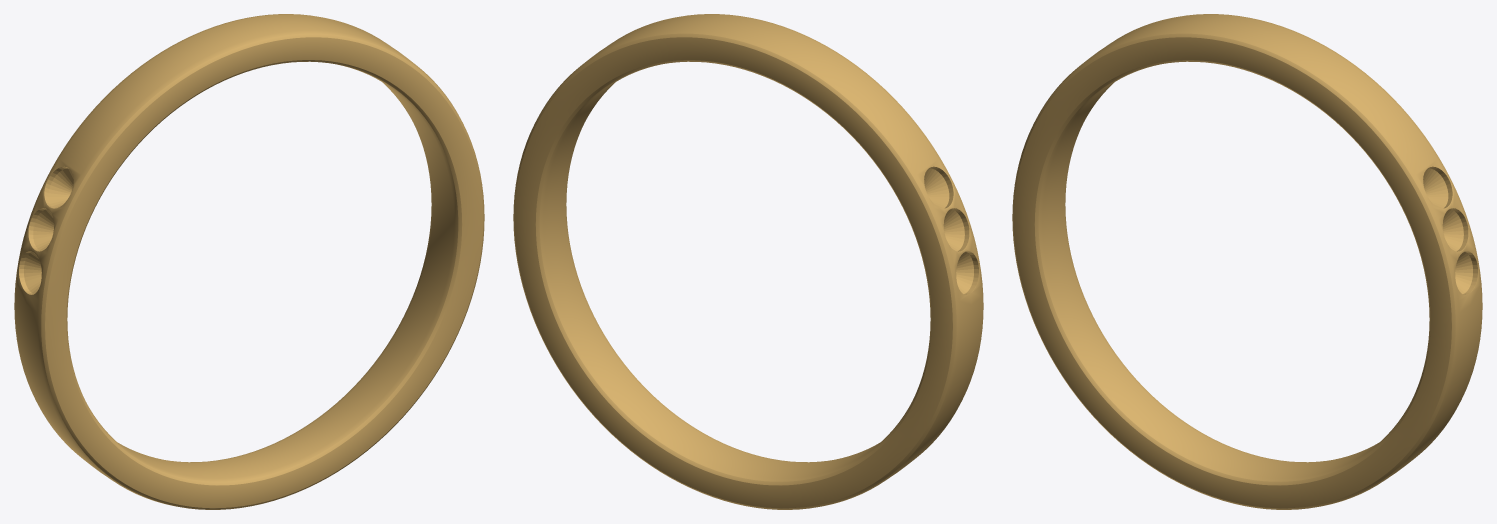
The model's file is flat-flush-accents-wide.glb.
3 renders of one model, left to right at view 1: azimuth 30°, elevation 25°; view 2: azimuth 150°, elevation 25°; view 3: azimuth 330°, elevation 25°, orthographic.
Parts seen in each view (by area): view 1: Band; view 2: Band; view 3: Band.
Part boxes in pixels (bbox=[...]): Band: bbox=[14, 14, 484, 509]; Band: bbox=[513, 14, 983, 509]; Band: bbox=[1012, 14, 1482, 509].
Size of the model in its own units: 19.6 by 19.6 by 2.3.
